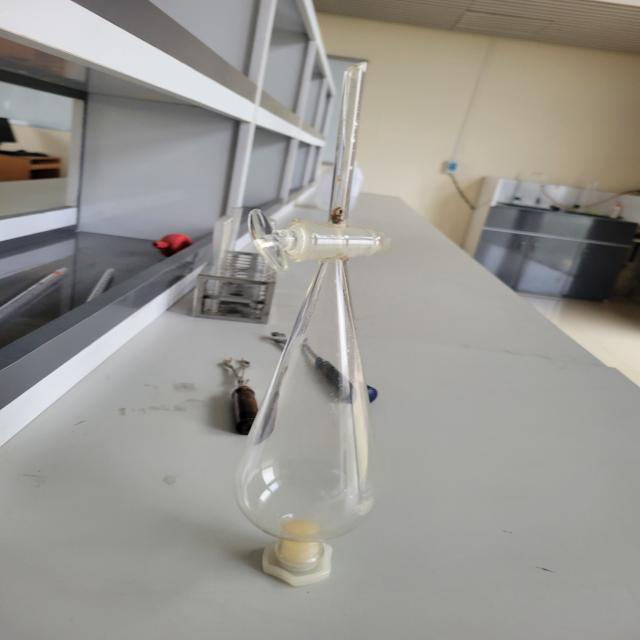Separating_Funnel: (216, 21, 445, 603)
